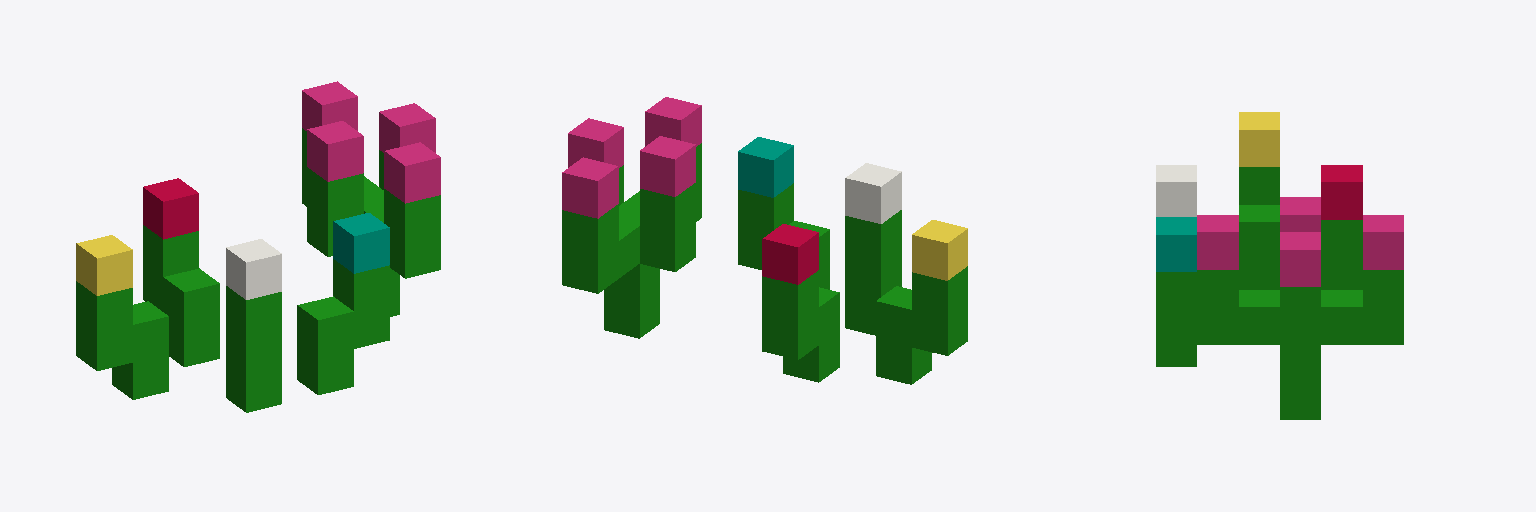
3 views of the same model, side by side, from view 1: azimuth 30°, elevation 25°; view 2: azimuth 150°, elevation 25°; view 3: azimuth 270°, elevation 25° (orthographic).
Parts seen in each view (by area): view 1: Element #12, Element #16, Element #4, Element #14, Element #8, Element #10, Element #13, Element #9, Element #15, Element #2, Element #7, Element #11 (+1 smaller); view 2: Element #12, Element #14, Element #16, Element #7, Element #8, Element #10, Element #15, Element #3, Element #6, Element #4, Element #13, Element #1 (+2 smaller); view 3: Element #4, Element #14, Element #6, Element #2, Element #10, Element #16, Element #7, Element #15, Element #3, Element #5, Element #12, Element #1 (+3 smaller).
Boxes of the visible parts, <box> form: Element #12: <box>226,239,281,412</box>; Element #16: <box>76,235,132,370</box>; Element #4: <box>384,142,440,278</box>; Element #14: <box>143,178,198,311</box>; Element #8: <box>307,121,363,219</box>; Element #10: <box>333,213,389,310</box>; Element #13: <box>163,268,219,366</box>; Element #9: <box>297,296,389,357</box>; Element #15: <box>112,301,168,399</box>; Element #2: <box>379,103,435,189</box>; Element #7: <box>302,81,357,168</box>; Element #11: <box>297,343,353,394</box>; Element #12: <box>845,163,901,335</box>; Element #14: <box>762,224,818,359</box>; Element #16: <box>912,220,967,355</box>; Element #7: <box>562,157,618,255</box>; Element #8: <box>640,136,695,234</box>; Element #10: <box>738,137,793,233</box>; Element #15: <box>876,286,931,384</box>; Element #3: <box>604,264,659,338</box>; Element #6: <box>562,221,639,293</box>; Element #4: <box>645,97,701,221</box>; Element #13: <box>783,287,839,382</box>; Element #1: <box>619,202,695,271</box>; Element #4: <box>1197,215,1238,344</box>; Element #14: <box>1321,165,1362,289</box>; Element #6: <box>1321,290,1403,344</box>; Element #2: <box>1280,232,1320,324</box>; Element #10: <box>1156,217,1196,309</box>; Element #16: <box>1239,112,1279,204</box>; Element #7: <box>1363,215,1403,306</box>; Element #15: <box>1239,205,1279,289</box>; Element #3: <box>1280,362,1320,419</box>; Element #5: <box>1239,290,1279,344</box>; Element #12: <box>1156,165,1196,216</box>; Element #1: <box>1280,325,1320,361</box>.
Size of the model in its own units: 1.6 by 0.8 by 0.96.
Materials: 1 (1 with a texture image).